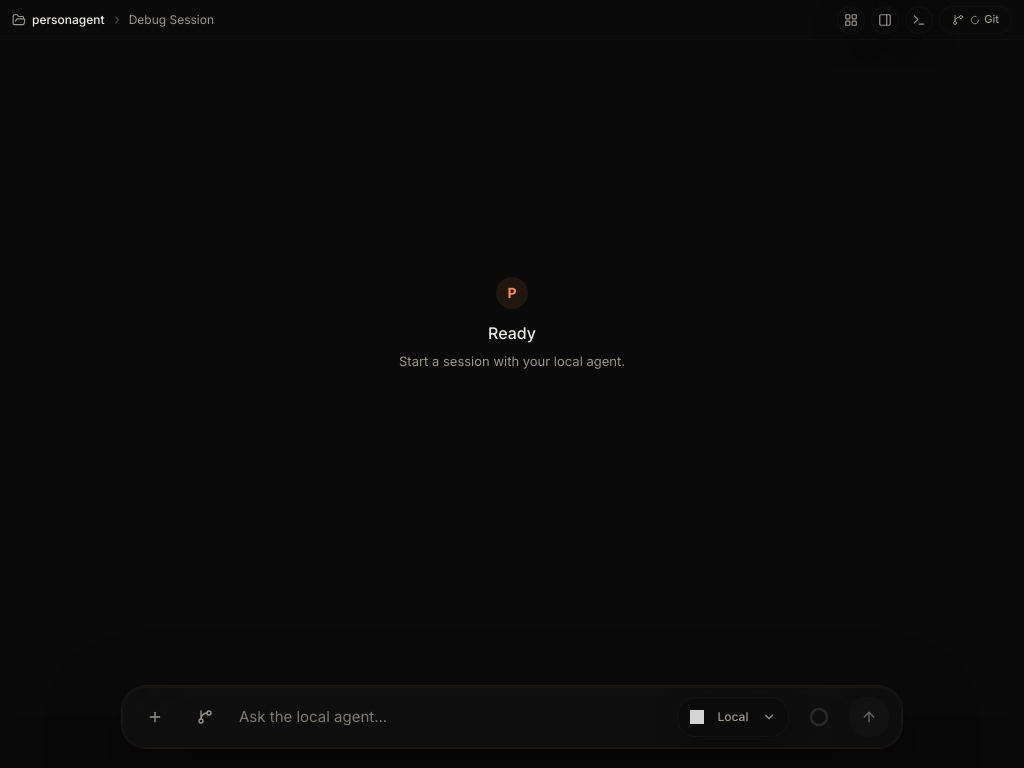
SessionPanel › loads HTML mirror documents from artifact refs
Click the button named "Session Panel": [885, 20] box [871,6,899,34]
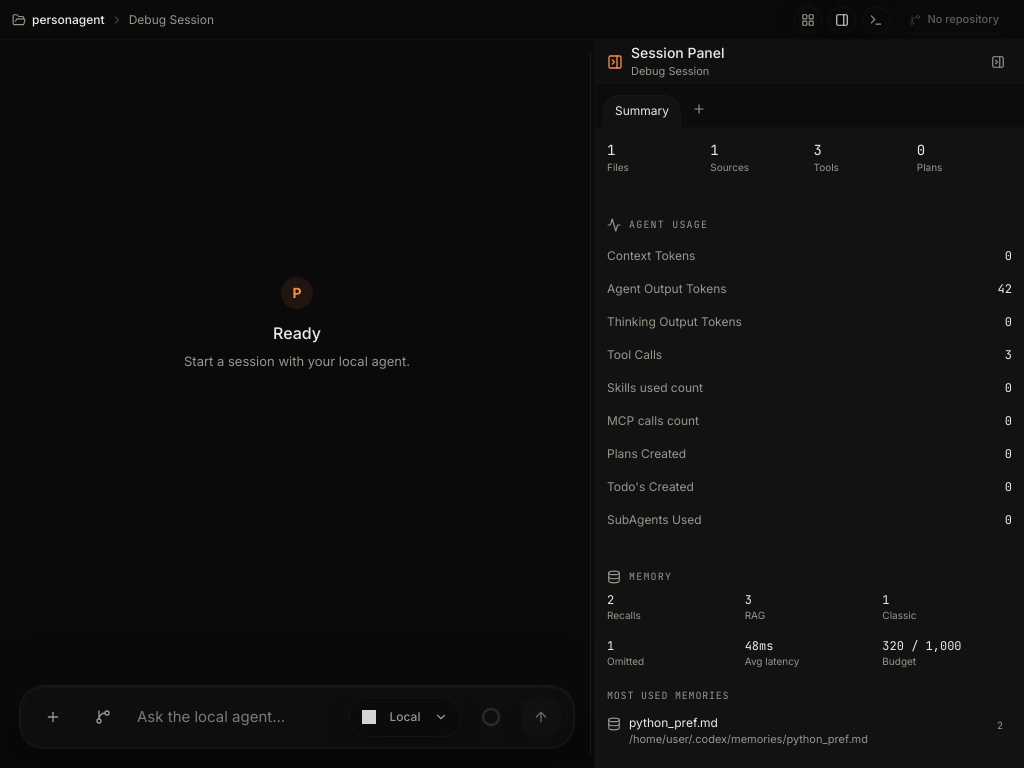
Press the mouse on the button named "New panel tab": [699, 109] box [685,95,713,123]
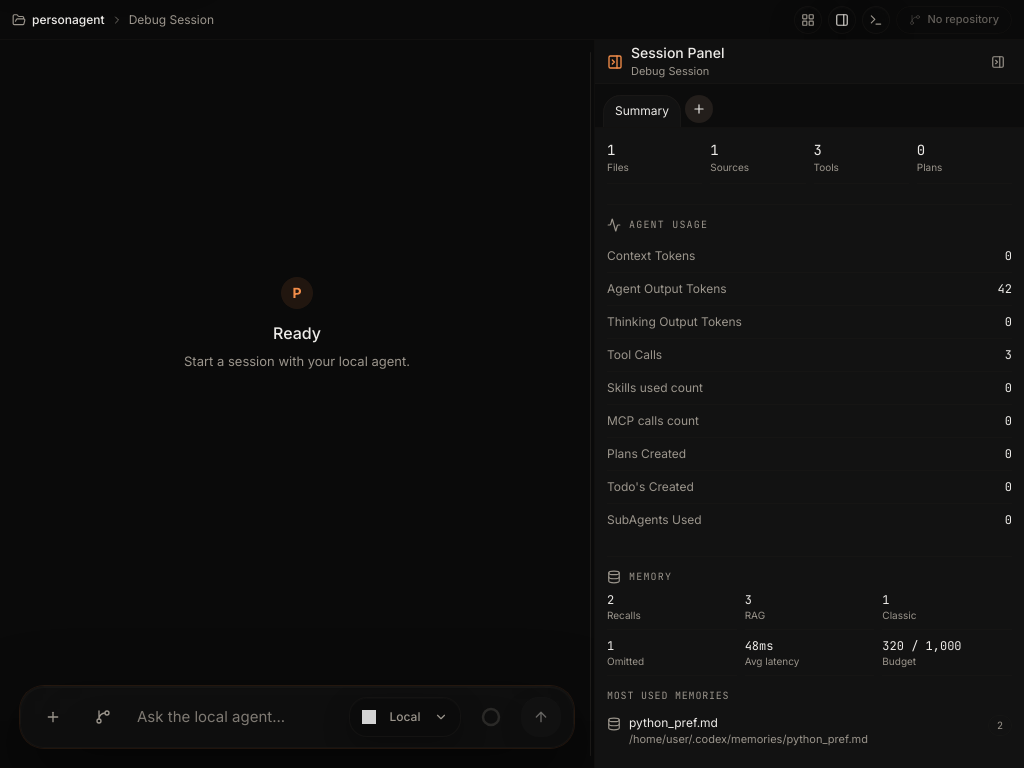
Click the button named "New panel tab": [699, 109] box [685,95,713,123]
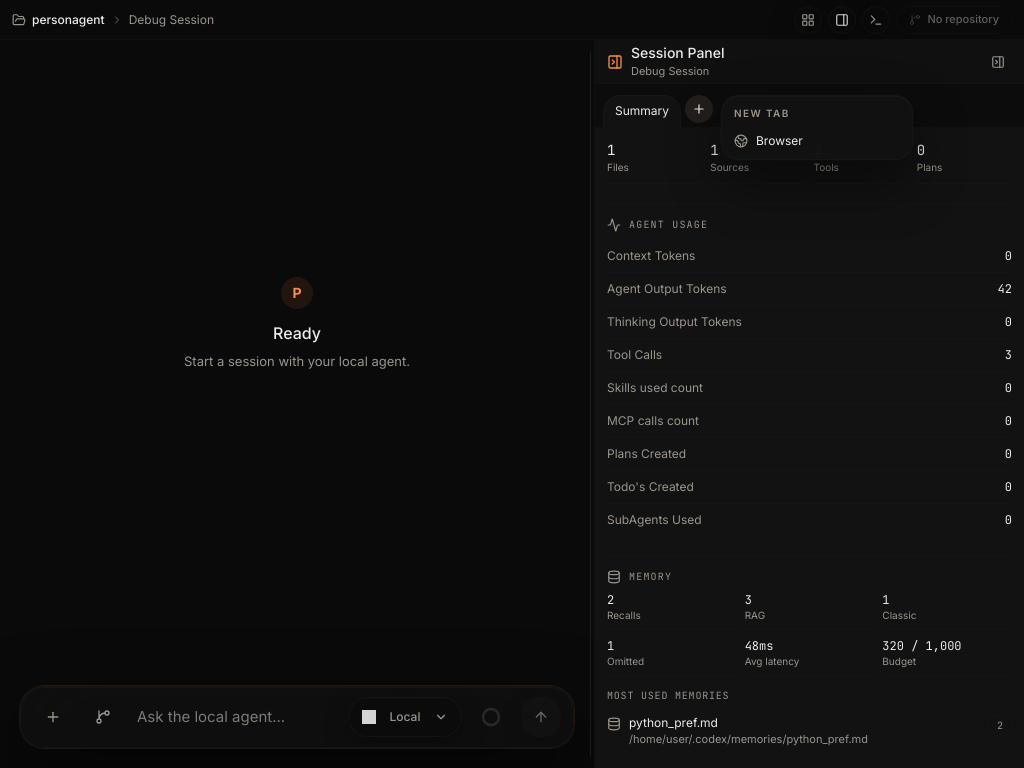
Click the menu item "Browser": [768, 140] box [734,133,803,148]
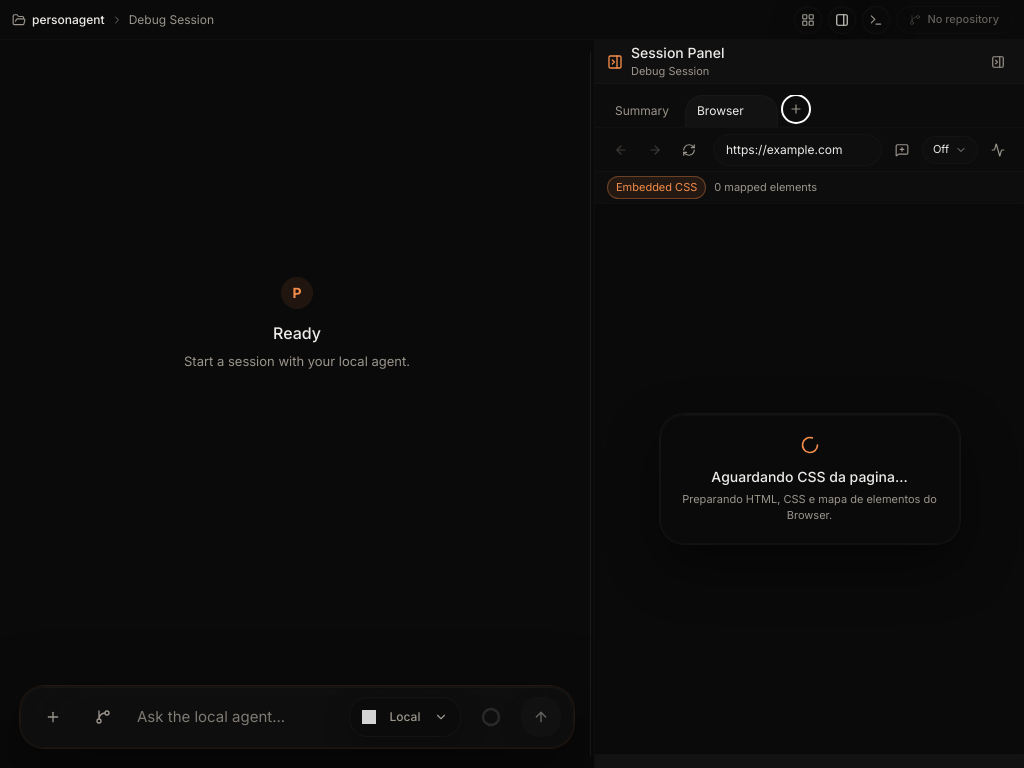
Now the tab "Browser" is shown, box [685,95,778,127]
